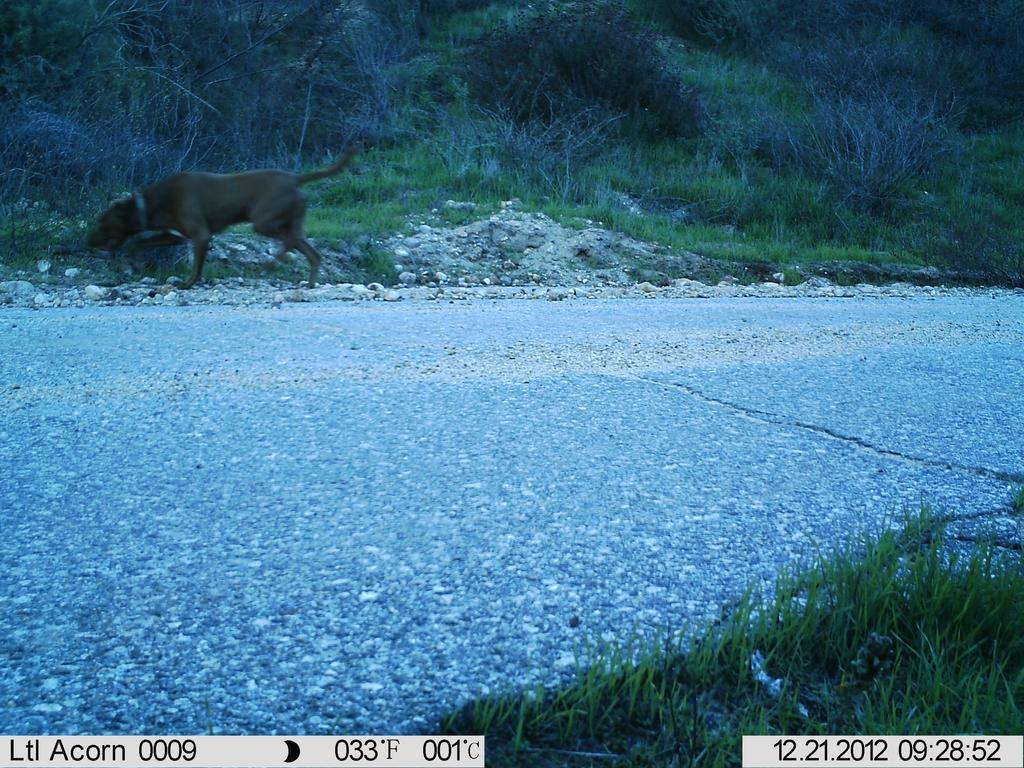dog: (58, 127, 370, 303)
